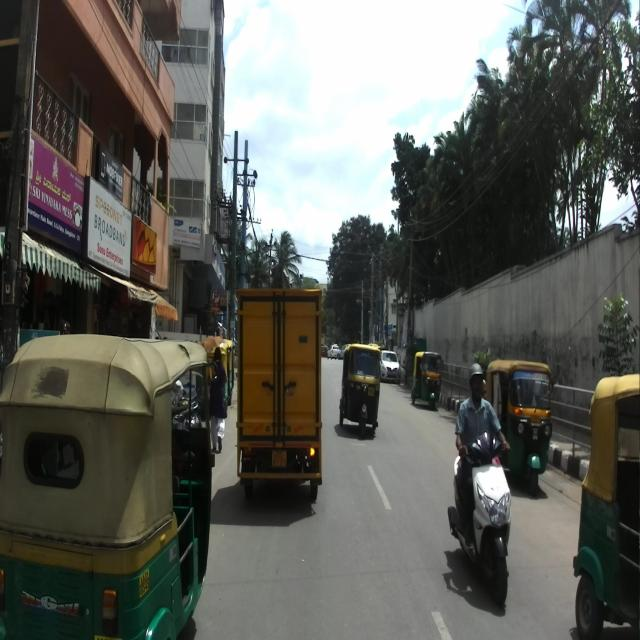autorickshaw: (0, 333, 219, 640), (572, 373, 640, 639), (485, 359, 555, 497)
scooter: (447, 431, 512, 605)
truck: (231, 276, 333, 525)
